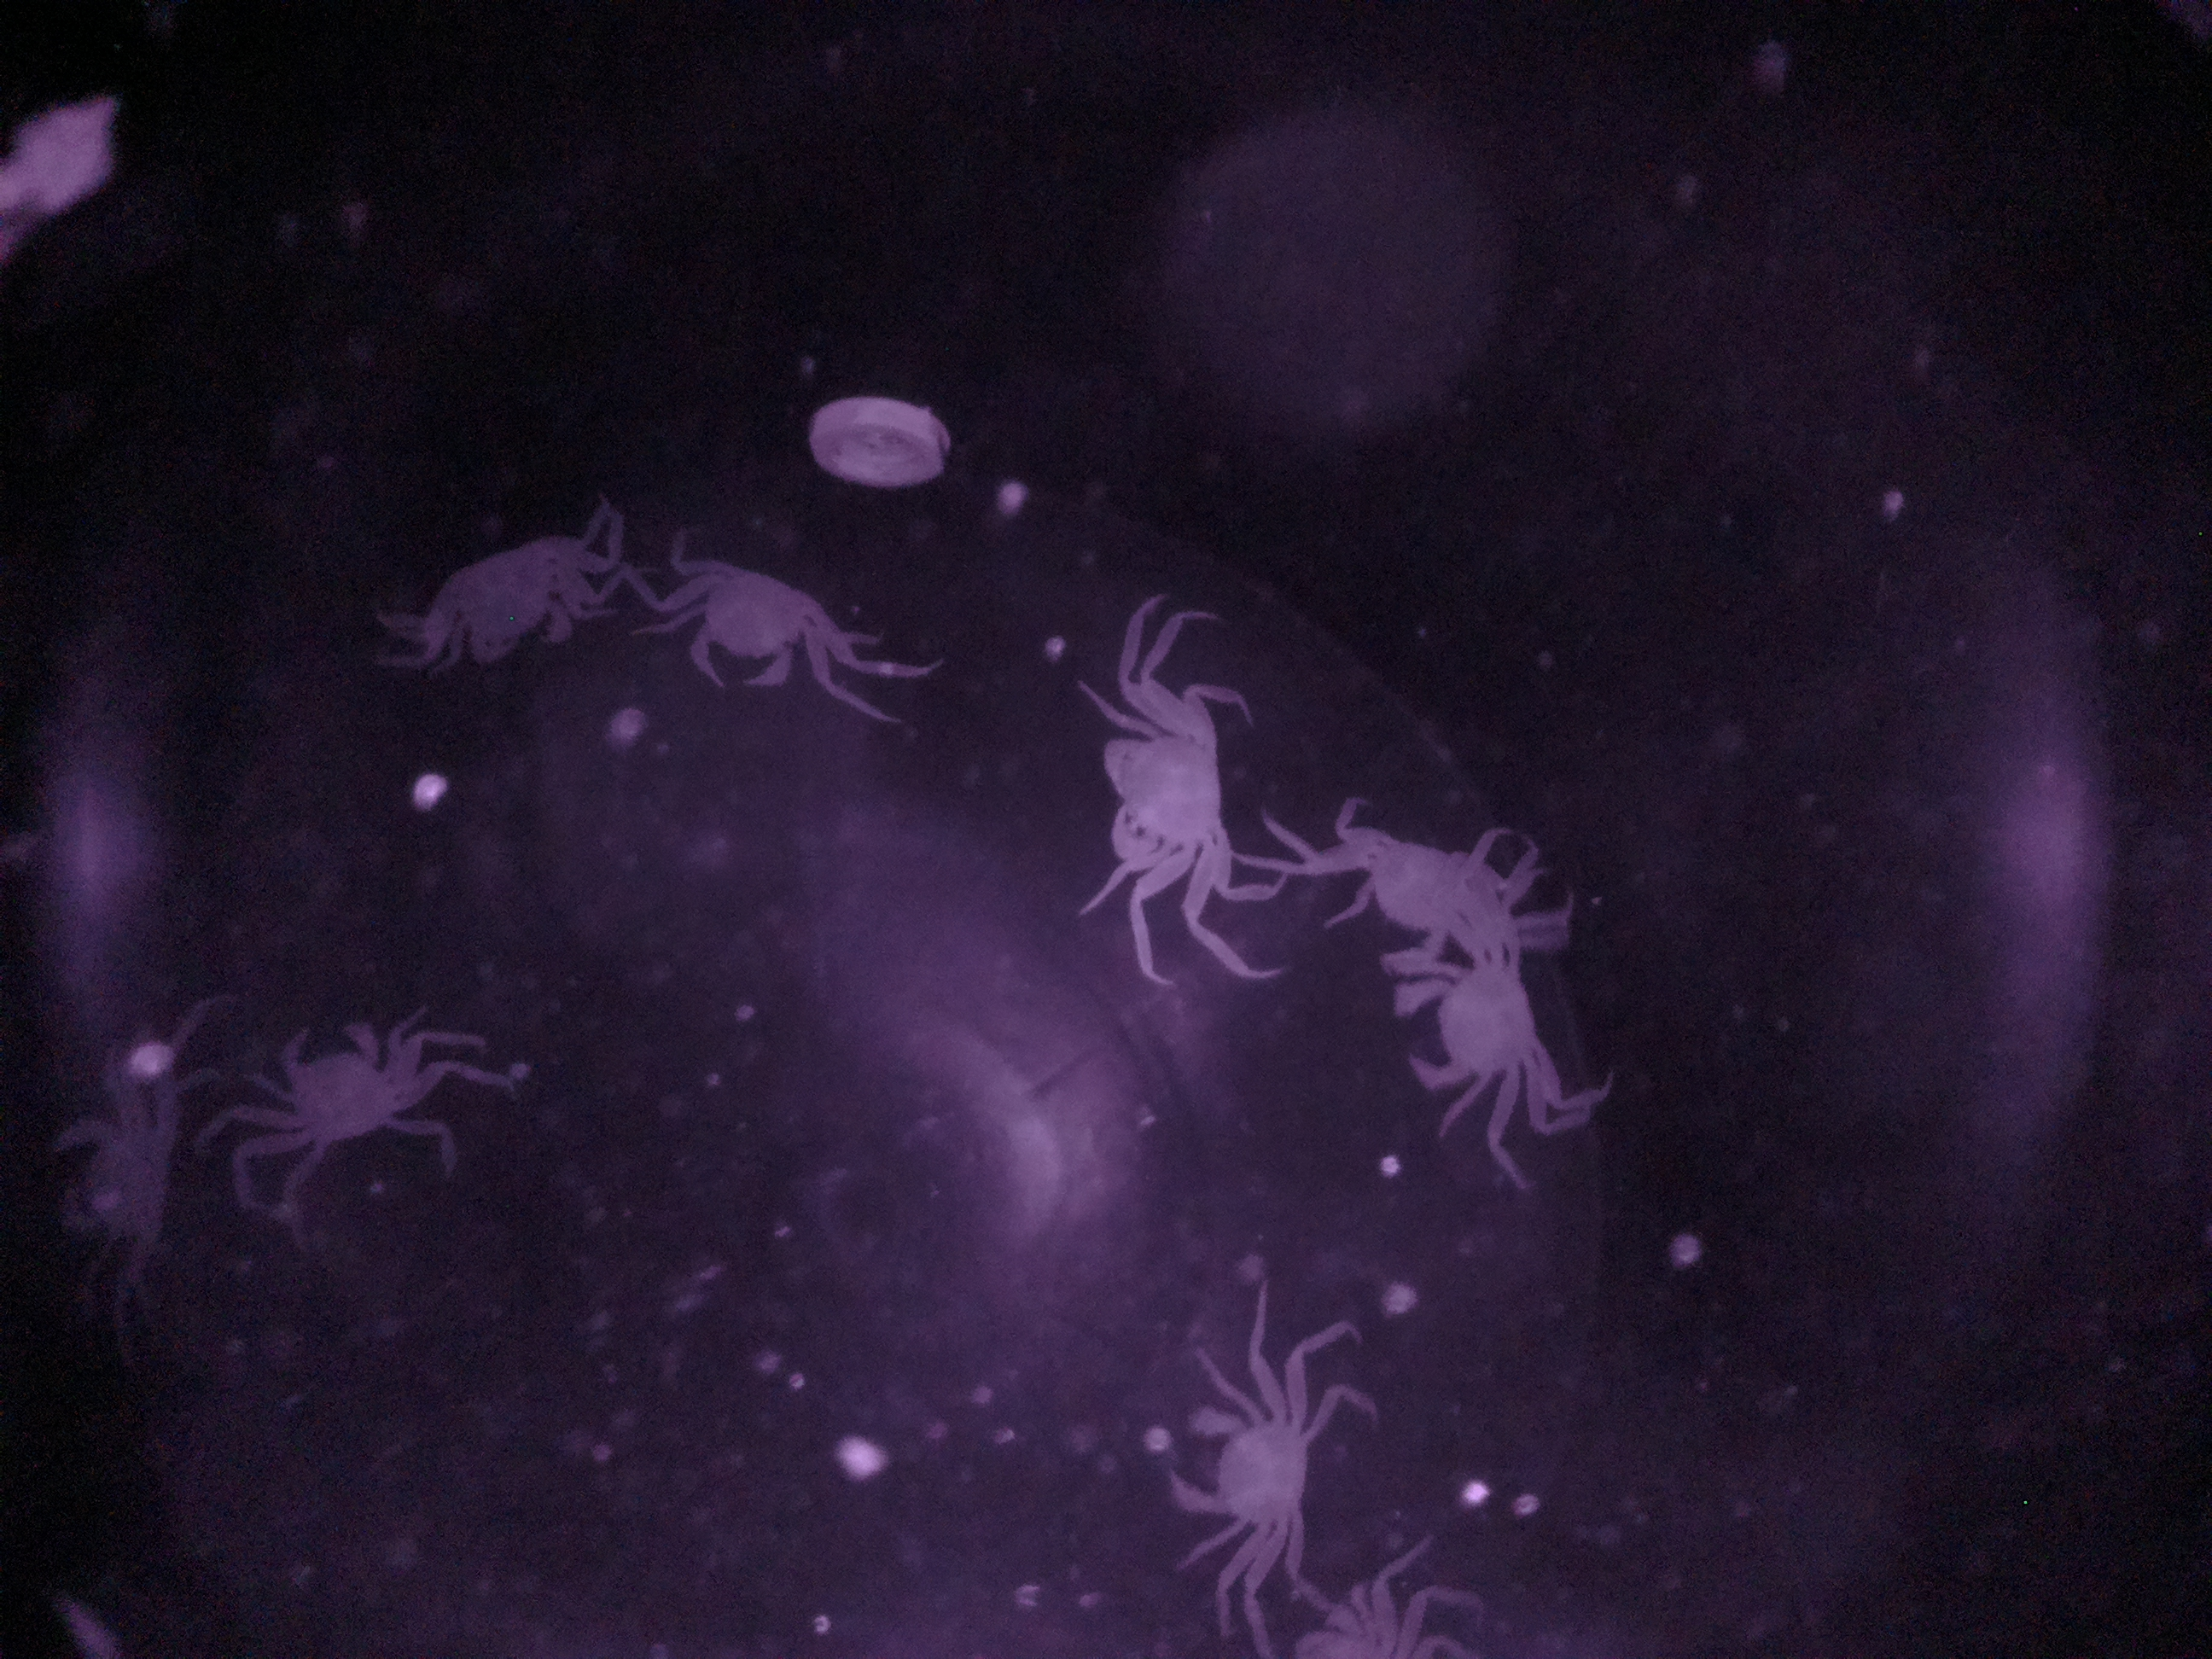Crab: (604, 532, 881, 721), (1369, 924, 1575, 1173), (1143, 1345, 1355, 1579), (1076, 647, 1238, 946), (408, 505, 610, 701), (226, 1004, 456, 1166)
